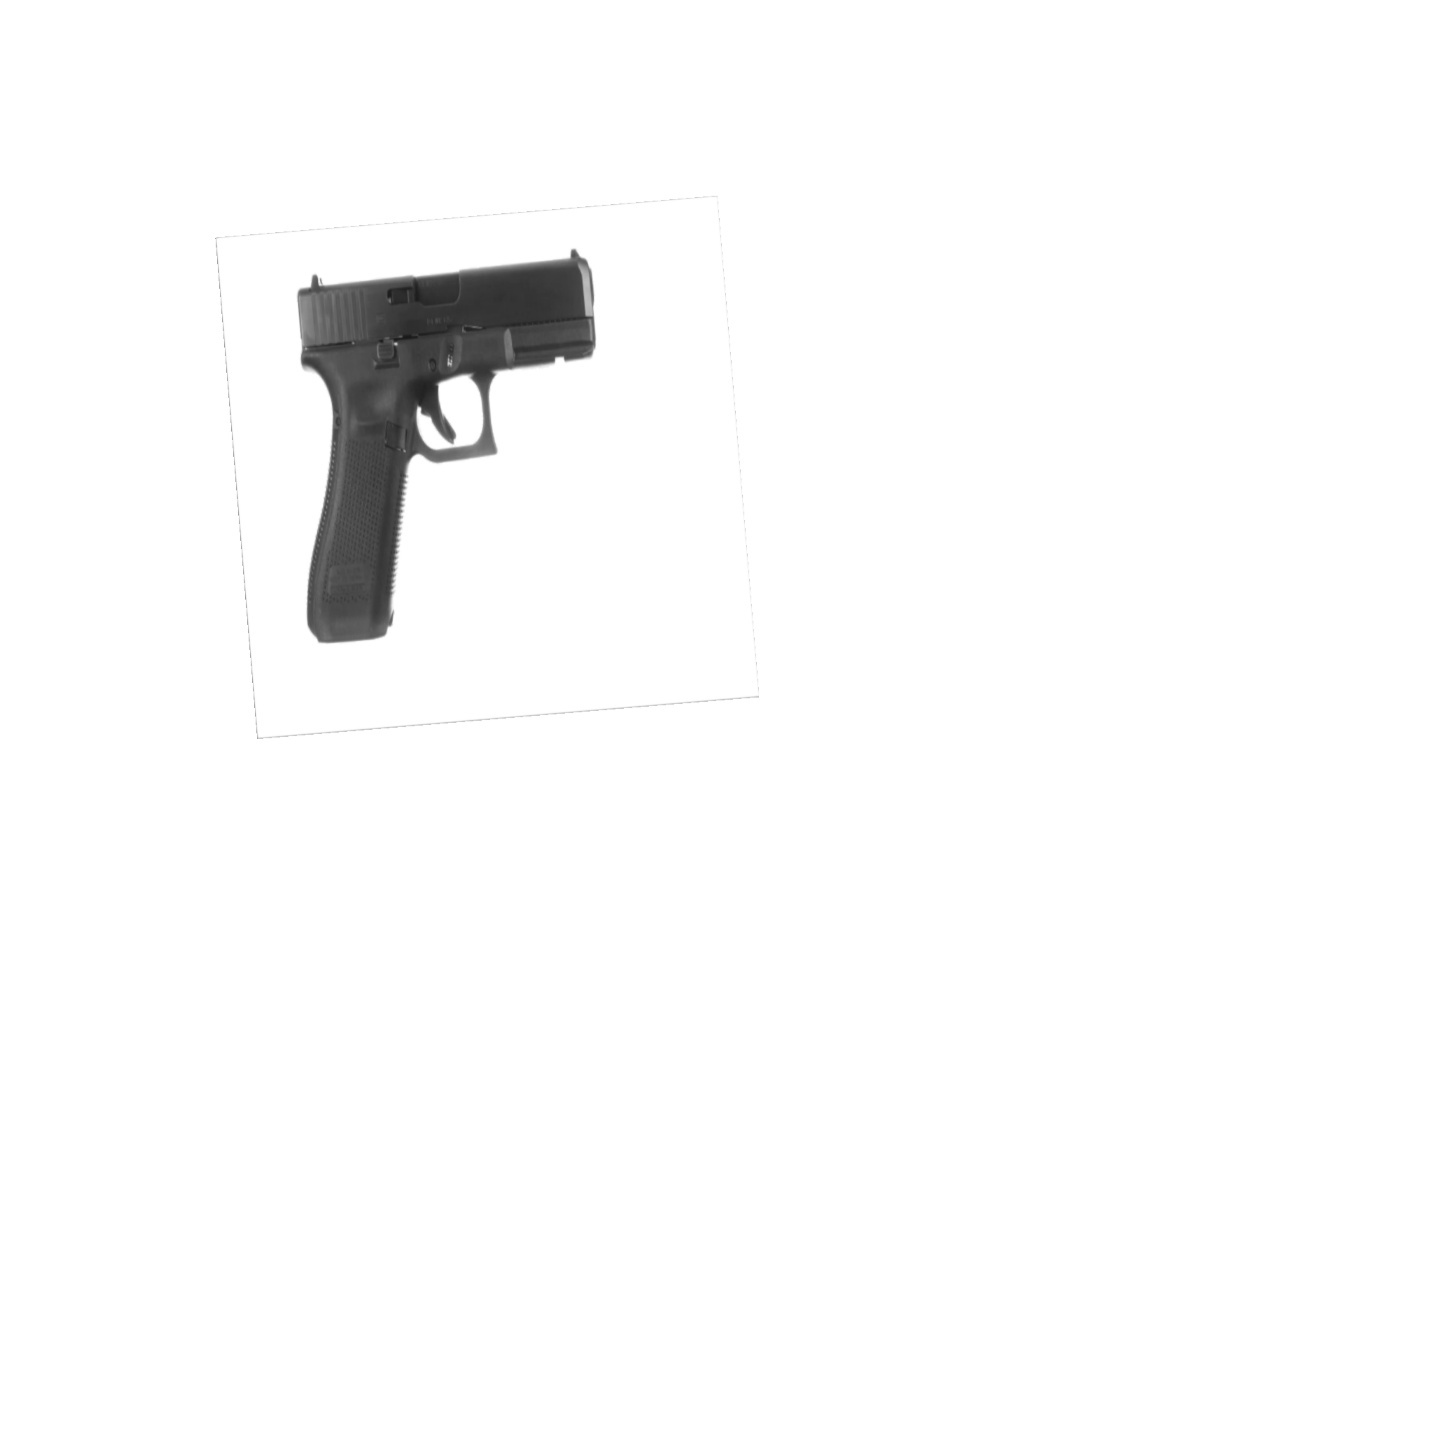gun: (265, 240, 611, 647)
